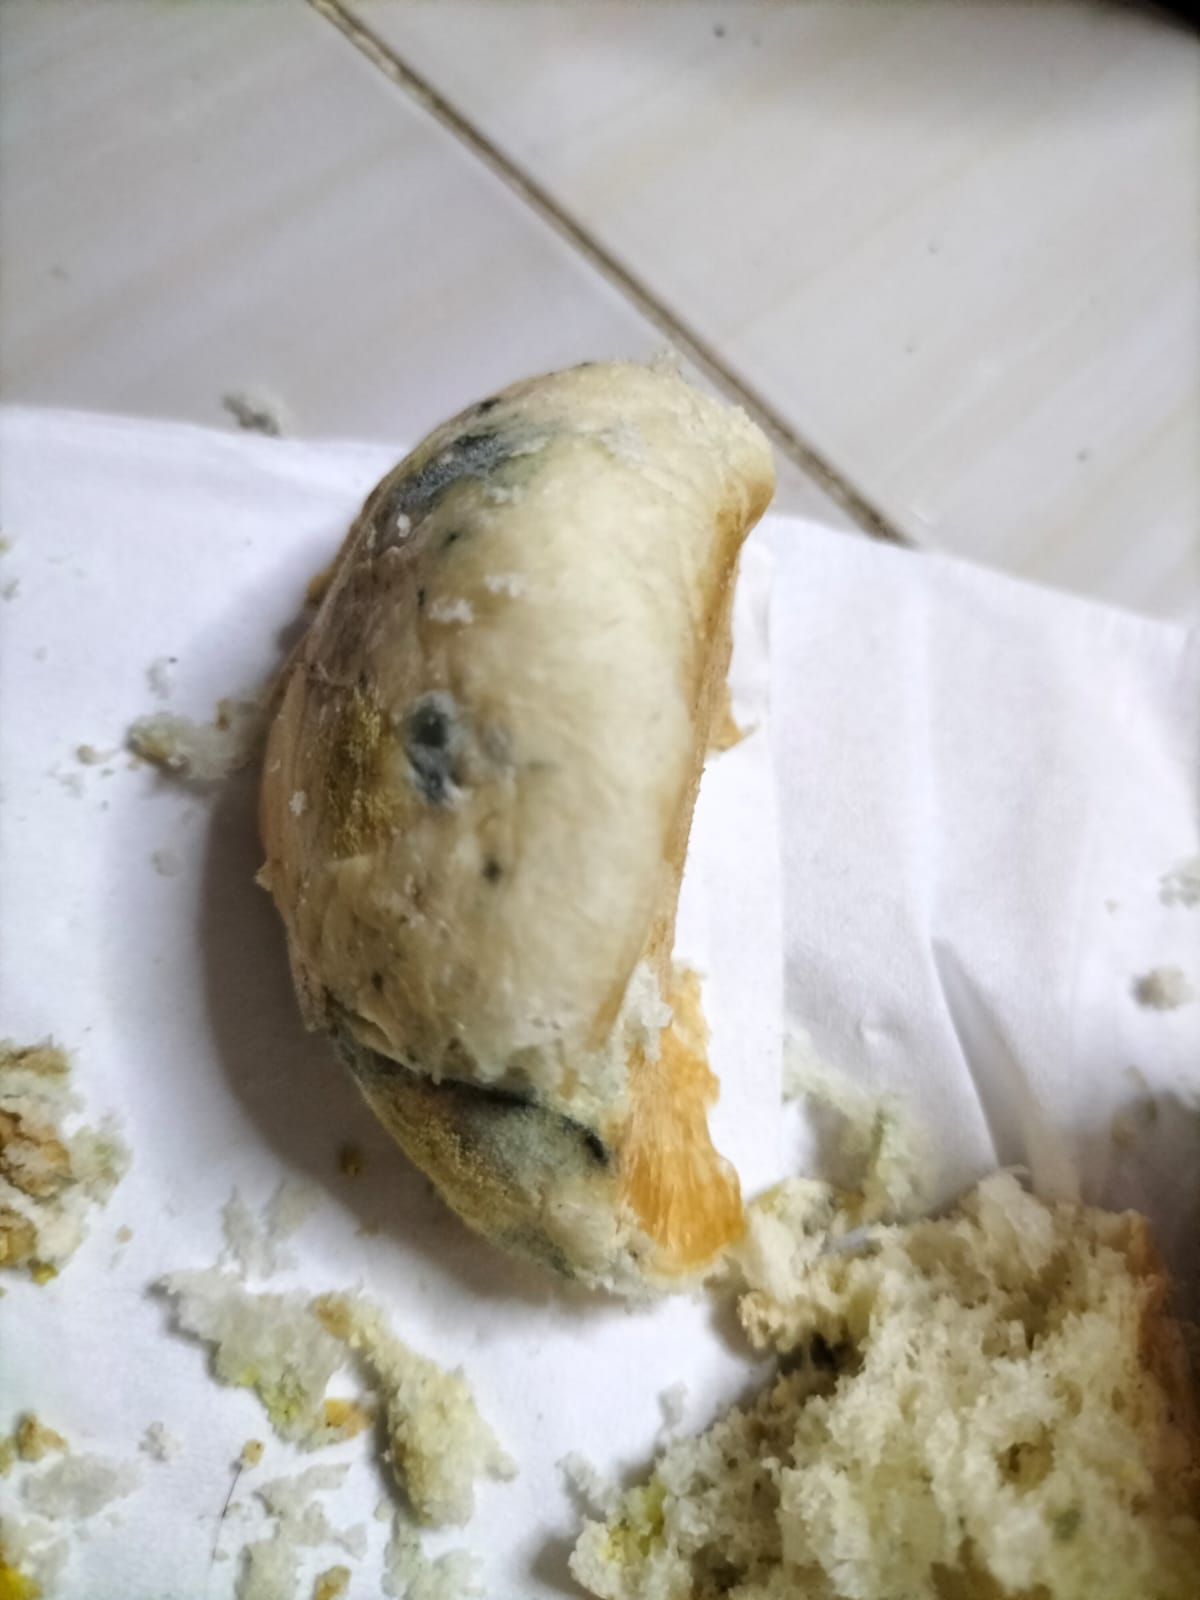mold_bread: (395, 1038, 610, 1256), (358, 396, 551, 574), (391, 678, 487, 824), (466, 855, 519, 900), (355, 963, 401, 1010)
